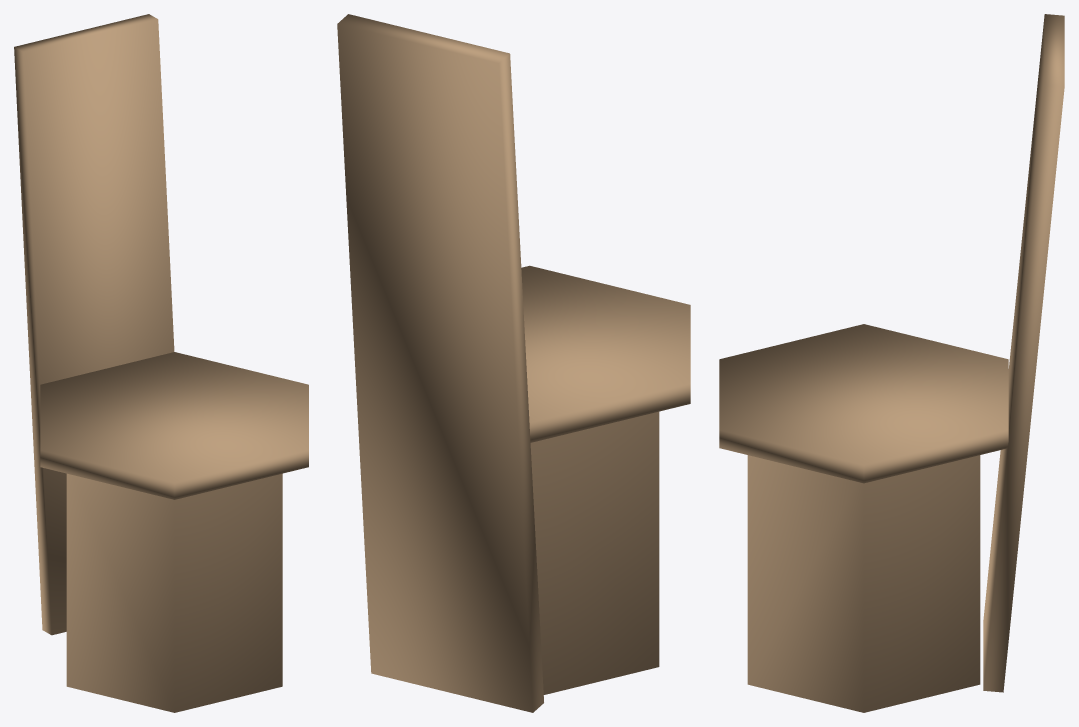
The model's file is chair_hex.glb.
The picture shows the model from 3 angles, left to right: view 1: azimuth 30°, elevation 25°; view 2: azimuth 150°, elevation 25°; view 3: azimuth 270°, elevation 25°; orthographic projection. The views are drawn at different scales.
Parts seen in each view (by area): view 1: Node; view 2: Node; view 3: Node.
Boxes of the visible parts, x1=… form: Node: x1=14, y1=14, x2=308, y2=712; Node: x1=337, y1=14, x2=690, y2=712; Node: x1=719, y1=14, x2=1064, y2=712.
Size of the model in its own units: 0.4976 by 0.9986 by 0.5145.
